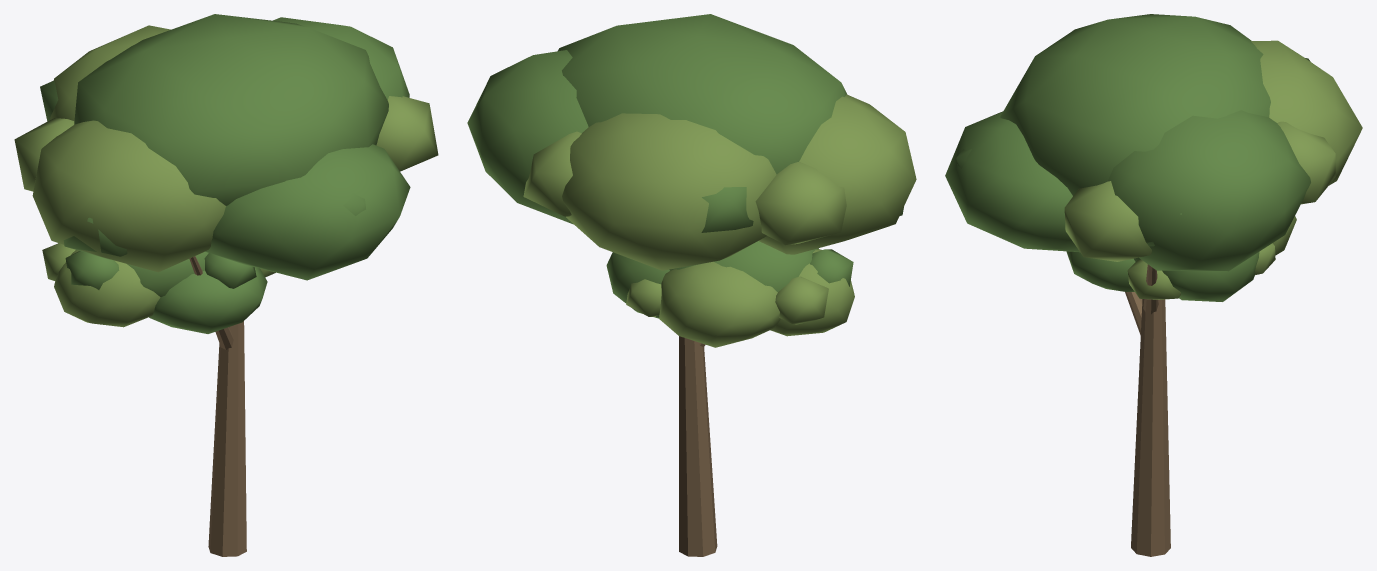
The model's file is broadleaf-a.glb.
3 renders of one model, left to right at view 1: azimuth 30°, elevation 25°; view 2: azimuth 150°, elevation 25°; view 3: azimuth 270°, elevation 25°, orthographic.
Parts seen in each view (by area): view 1: broadleaf-a; view 2: broadleaf-a; view 3: broadleaf-a.
Boxes of the visible parts, <box> form: broadleaf-a: <box>14,14,438,556</box>; broadleaf-a: <box>467,14,916,556</box>; broadleaf-a: <box>945,14,1362,556</box>.
Size of the model in its own units: 4.88 by 6.25 by 4.59.
